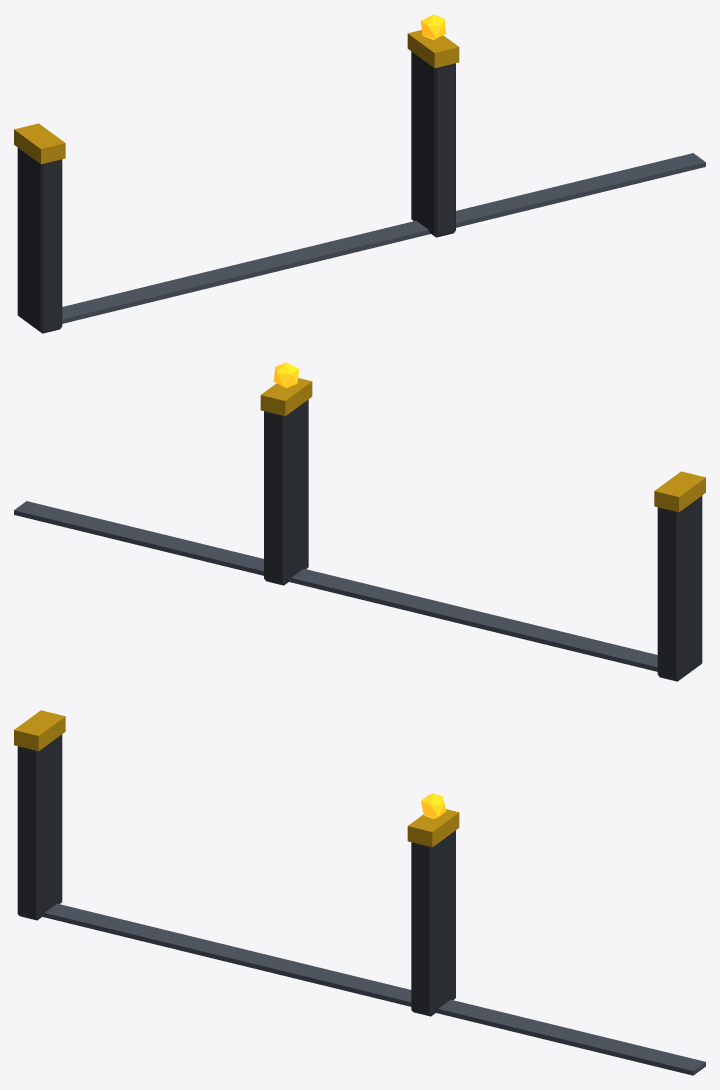
The model's file is gate_frame.glb.
3 renders of one model, top to bottom at view 1: azimuth 30°, elevation 25°; view 2: azimuth 150°, elevation 25°; view 3: azimuth 330°, elevation 25°, orthographic.
Parts seen in each view (by area): view 1: GateFrame, Beacon; view 2: GateFrame, Beacon; view 3: GateFrame.
Boxes of the visible parts, left/top/right/bottom form: GateFrame: left=14, top=30, right=705, bottom=333; Beacon: left=421, top=14, right=446, bottom=39; GateFrame: left=14, top=378, right=705, bottom=681; Beacon: left=273, top=362, right=298, bottom=387; GateFrame: left=14, top=710, right=705, bottom=1075.
Size of the model in its own units: 9.22 by 2.79 by 0.6404.
